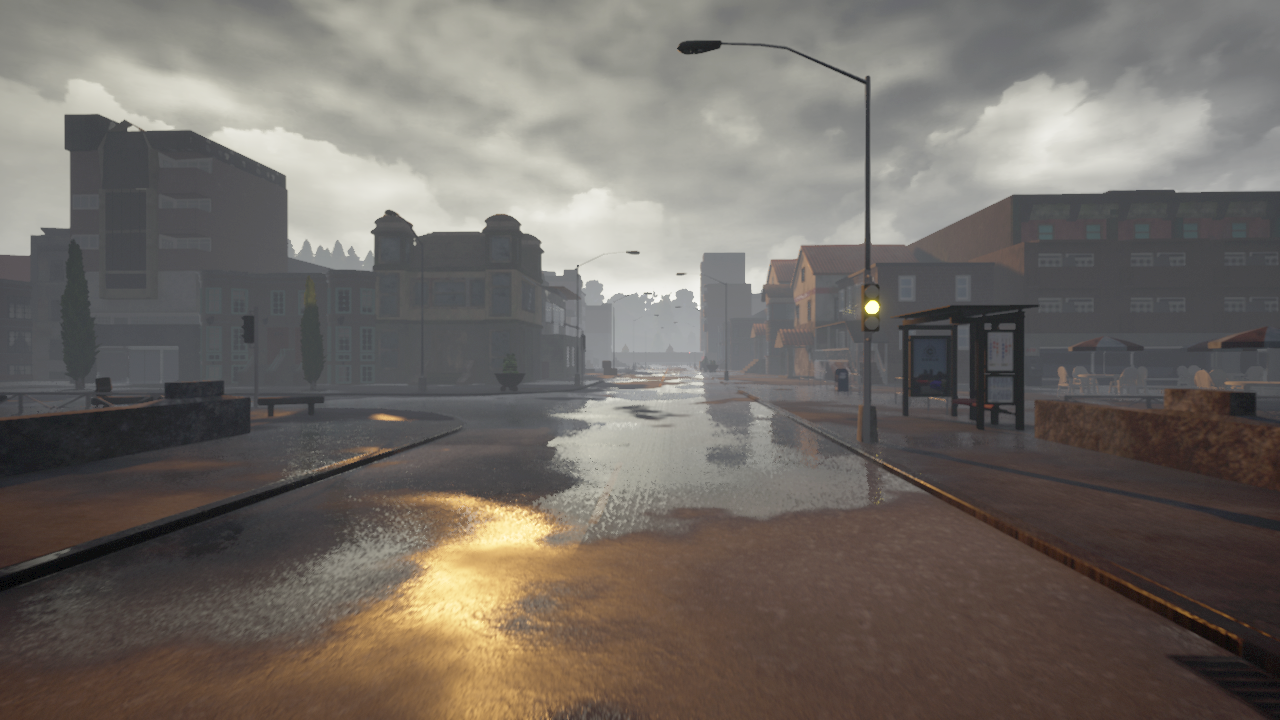yellow: (861, 281, 882, 336)
